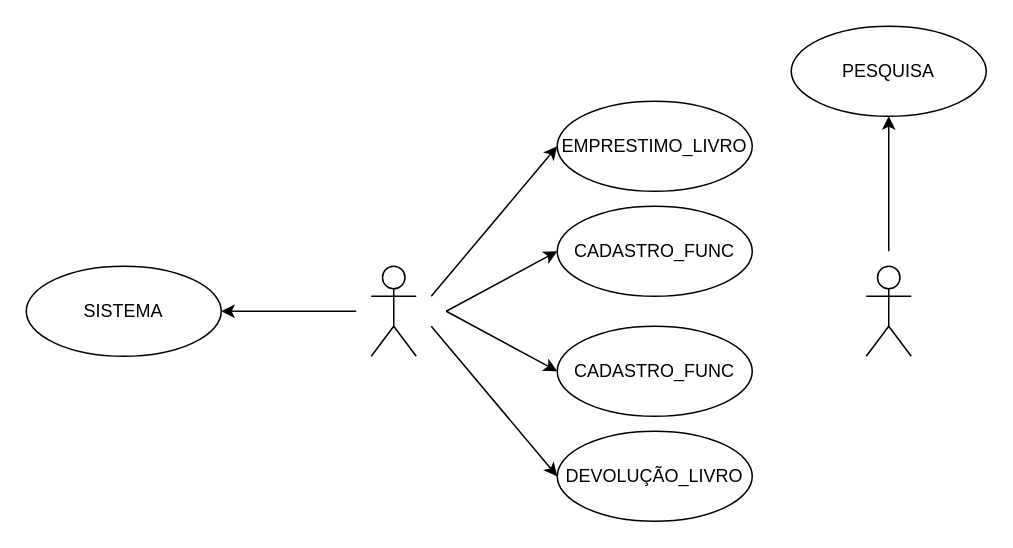
Some shapes in this 1013 by 548 pixel diagram are drawn without their labels. The box of each missing label's shape, as (x1, y1, x2, y2) in pixels:
FUNCIONÁRIO: (865, 265, 911, 356)
SECRETÁRIA: (370, 265, 416, 356)
